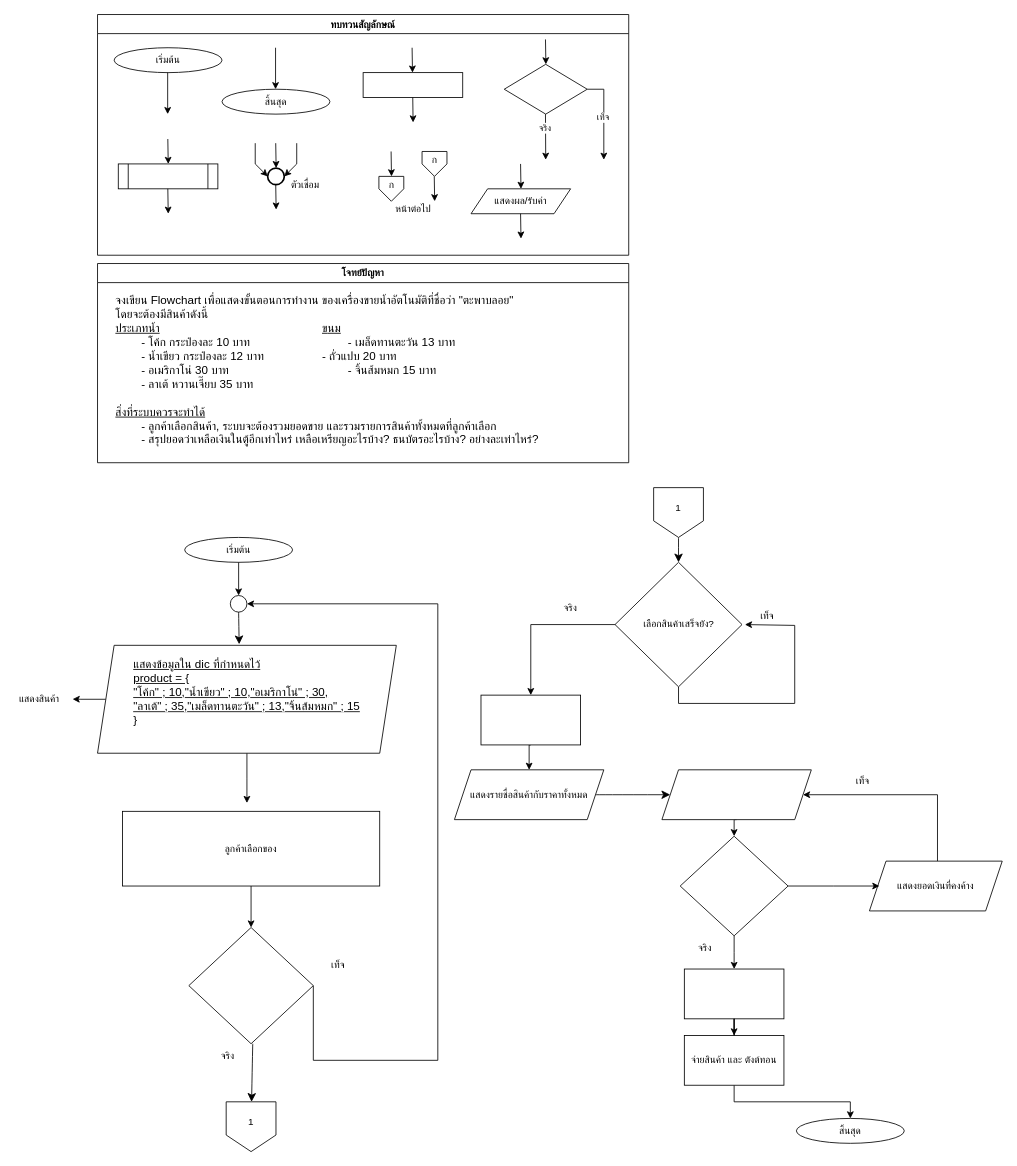
Image size: 1017x1166. Some labels were removed from this diagram. The shapes that lost their labels are listed below. From the top down, each one's centre as x and y in pixels, then its label:
[412,85]: กระบวนการ
[545,88]: ประโยคเงื่อนไข
[167,176]: ฟังก์ชัน/โมดูล
[530,719]: นำข้อมูลราคากับสินค้าเข้าในตัวแปร รวมสินค้าและราคาทั้งหมด
[736,794]: ป้อนจำนวนเงิน
[733,885]: เงินพอไหม
[250,985]: ลูกค้าเลือกของมั้ย
[734,993]: คำนวณเงินทอน
